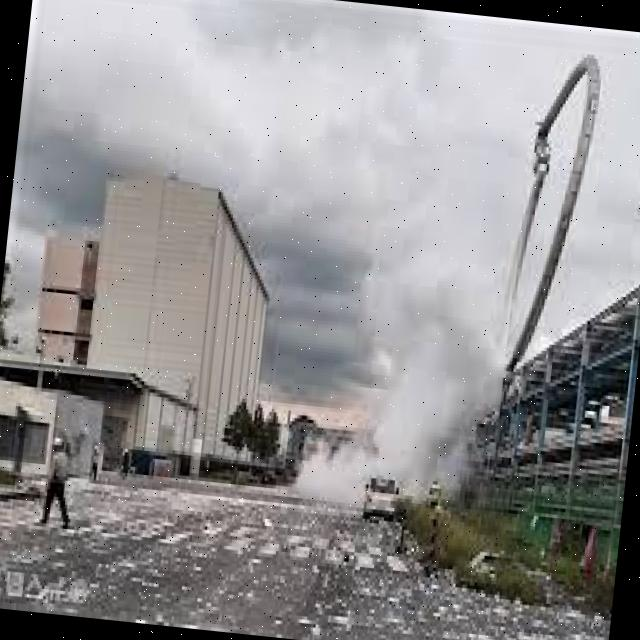explosion: (230, 22, 548, 522)
